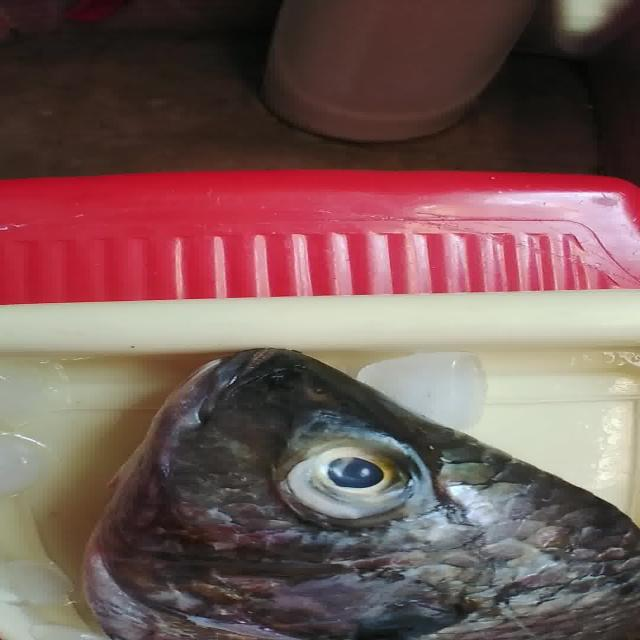Fresh: (279, 434, 448, 516)
